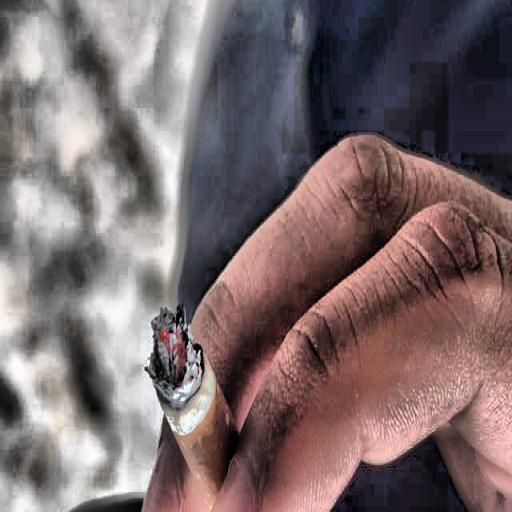Merokok: (147, 307, 234, 505)
